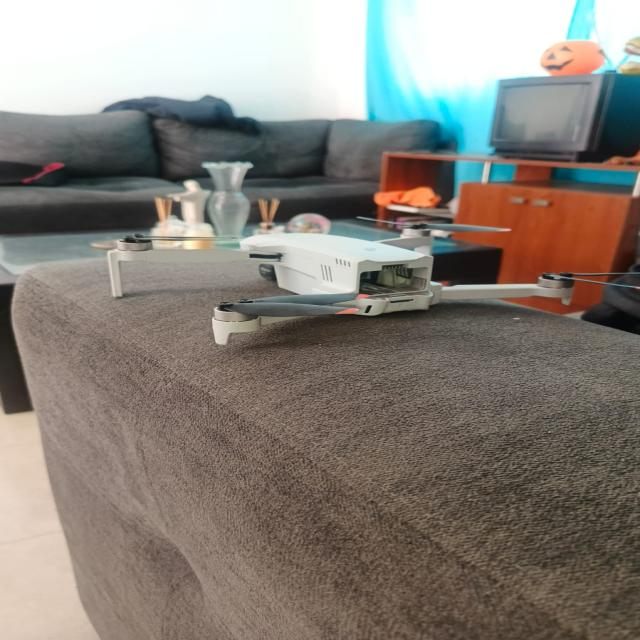dron: (88, 207, 603, 360)
